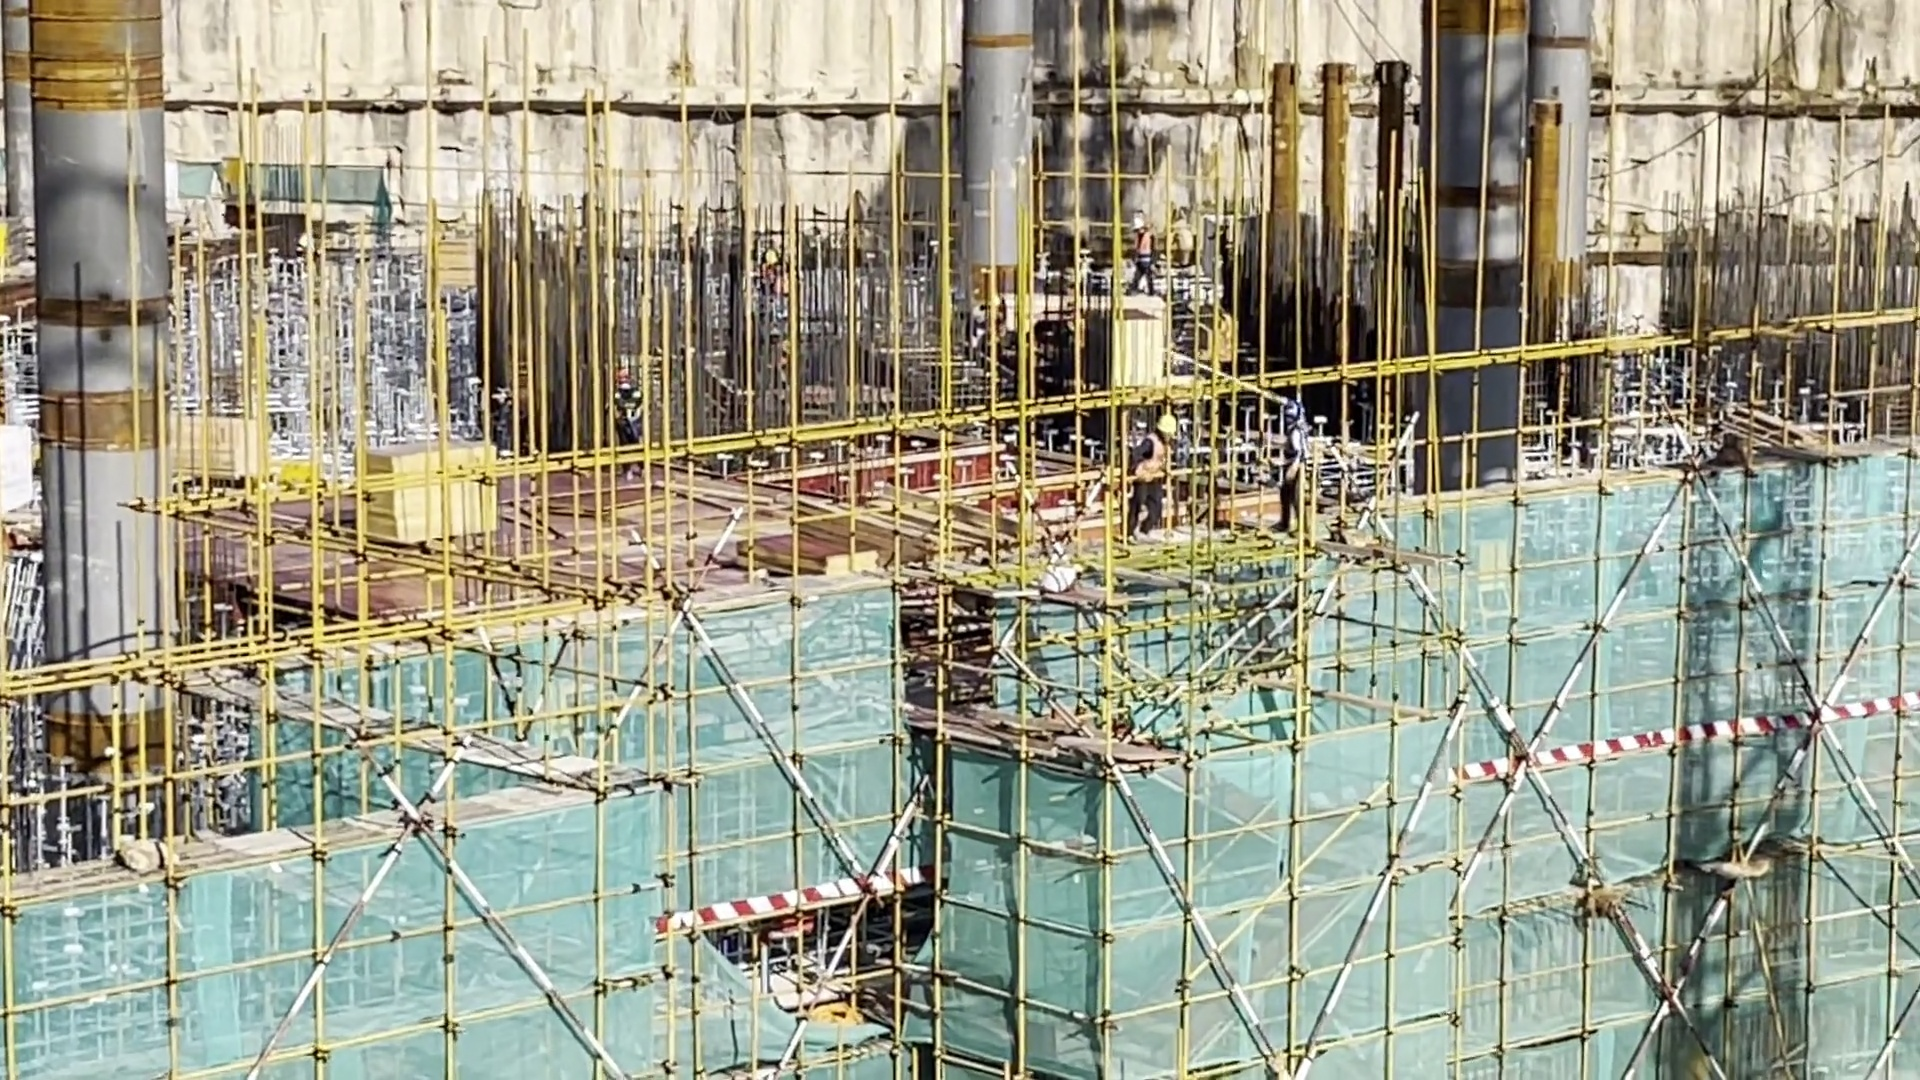board: (373, 427, 484, 557), (426, 232, 474, 302), (773, 534, 841, 582)
helmet: (1285, 398, 1308, 425), (1156, 406, 1173, 438), (618, 373, 645, 389), (764, 249, 782, 271), (464, 376, 485, 390), (981, 289, 997, 303), (1123, 216, 1136, 231)
person: (610, 360, 658, 486), (1139, 404, 1179, 529), (1286, 400, 1322, 533), (460, 366, 514, 454), (976, 286, 1007, 385), (1127, 214, 1159, 290), (757, 247, 788, 312)
vest: (1131, 435, 1172, 476), (1288, 427, 1310, 476), (621, 387, 642, 428), (487, 389, 515, 420), (1132, 228, 1155, 258), (763, 264, 786, 295), (977, 303, 994, 335)
wood: (834, 474, 1096, 572), (149, 391, 234, 469)
